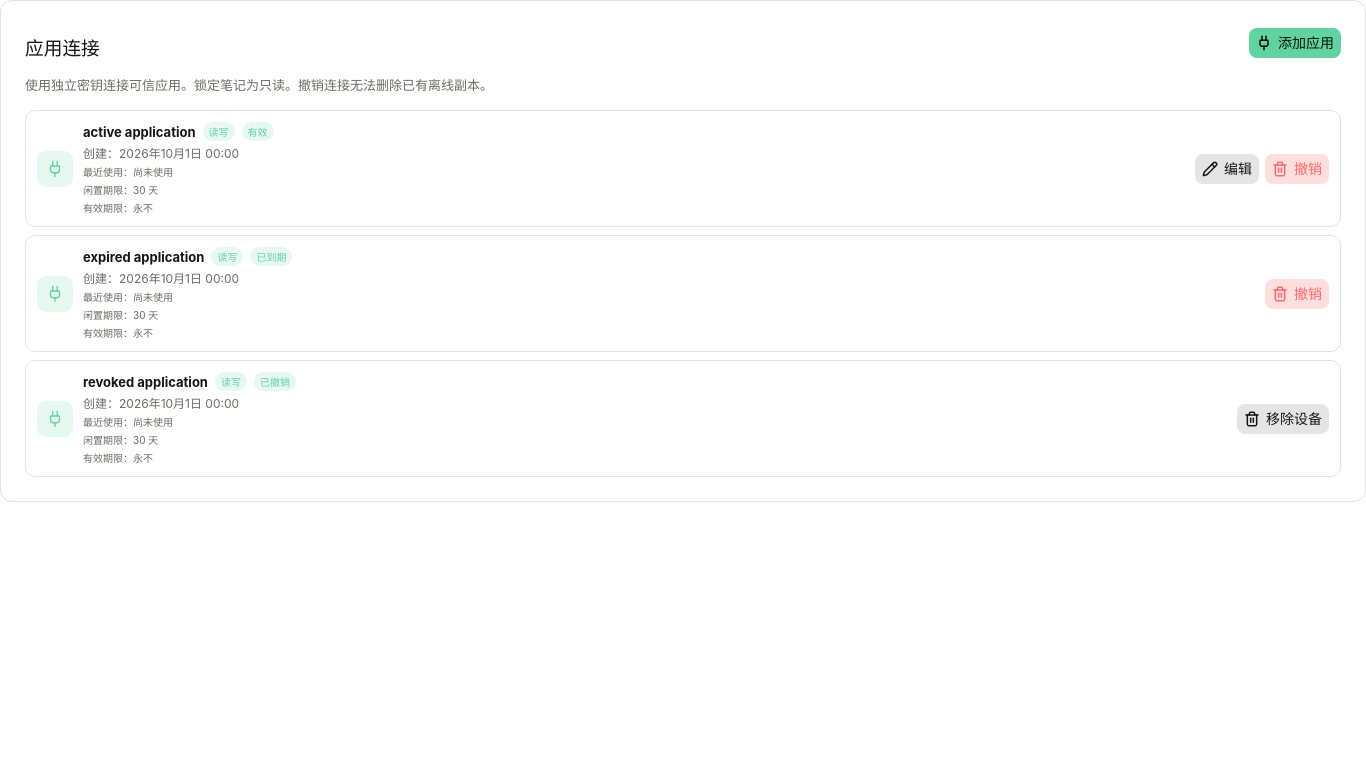
Scenario: places Add beside the heading and revokes or removes only the selected connection
Expected: the button "添加应用" is shown, [1249,28,1341,58]
Click the 1st button "撤销" at [1297, 169], box [1265,154,1329,184]
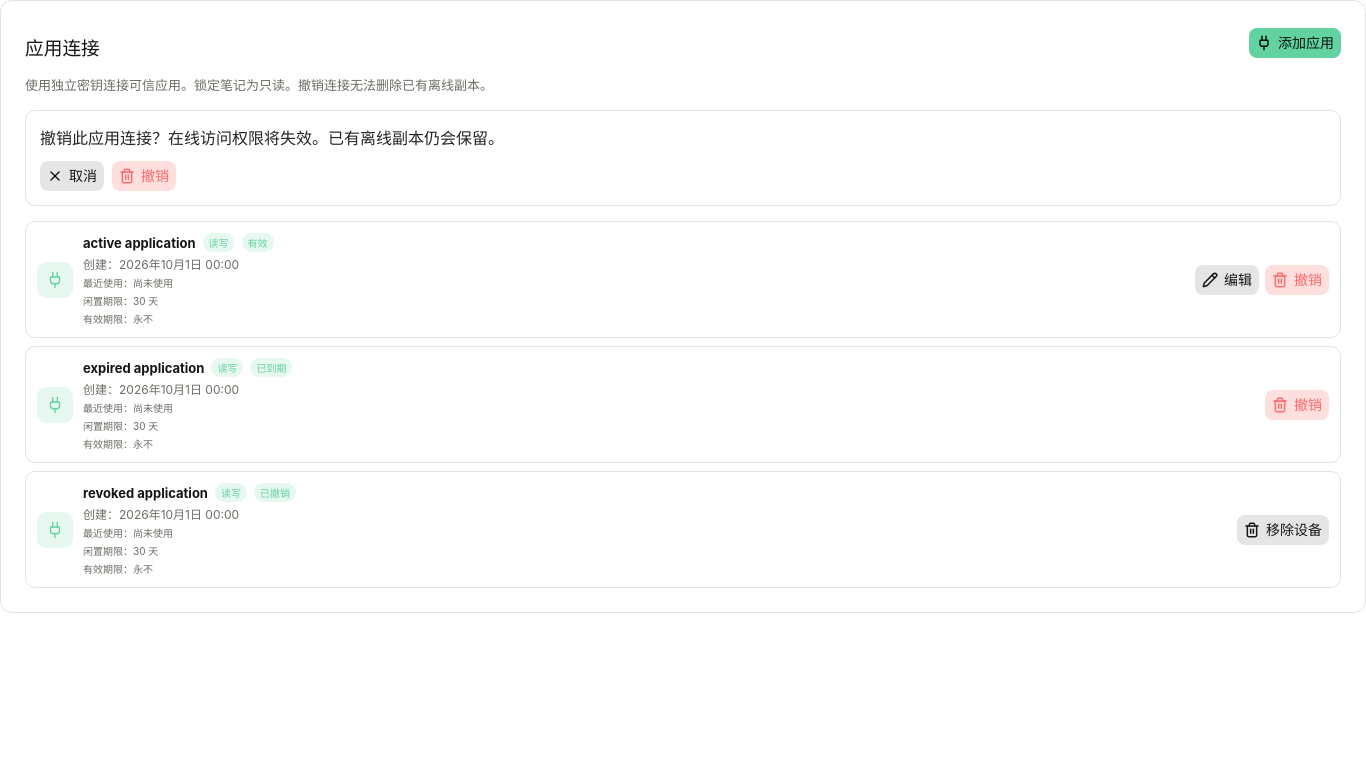
Click the button "撤销" below "撤销此应用连接？在线访问权限将失效。已有离线副本仍会保留。" at [144, 176], box [112,161,176,191]
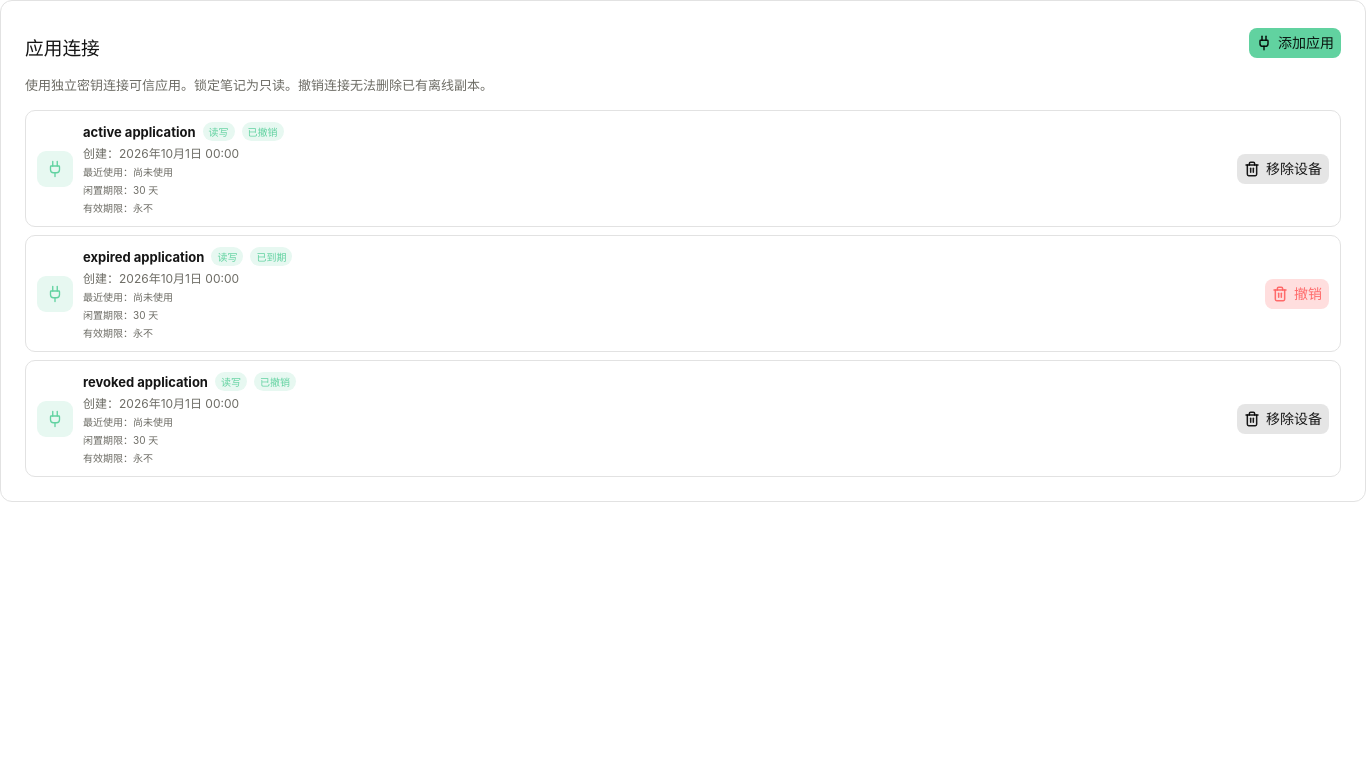
Expected: the 1st button "移除设备" is shown, [1237,154,1329,184]
Click the 2nd button "移除设备" at [1283, 419], box [1237,404,1329,434]
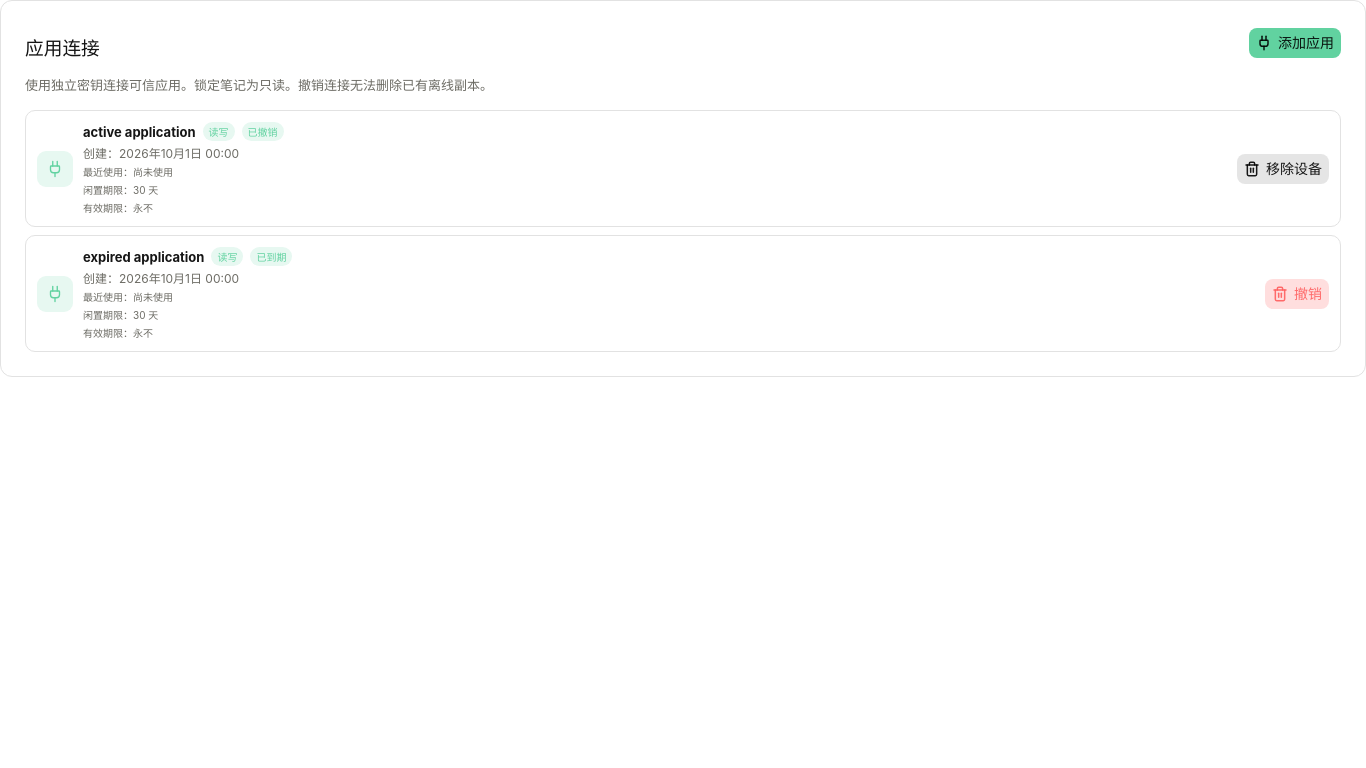
Now the text "revoked application" is gone
